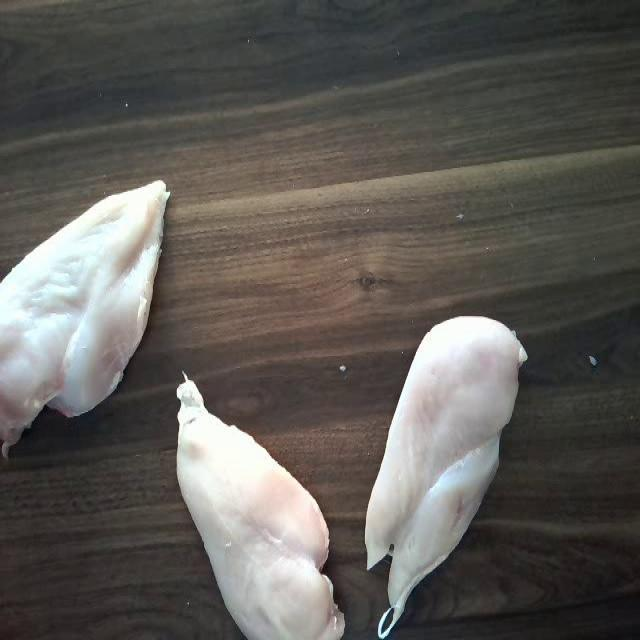breast: (167, 370, 345, 638), (374, 313, 518, 616), (2, 180, 170, 430)
